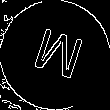M_S: (25, 24, 85, 86)
